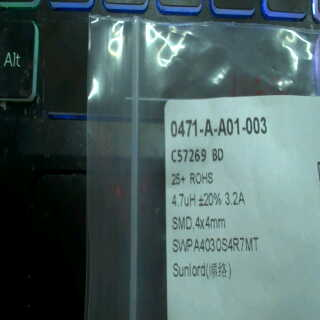4.7uH: (168, 188, 197, 210)
